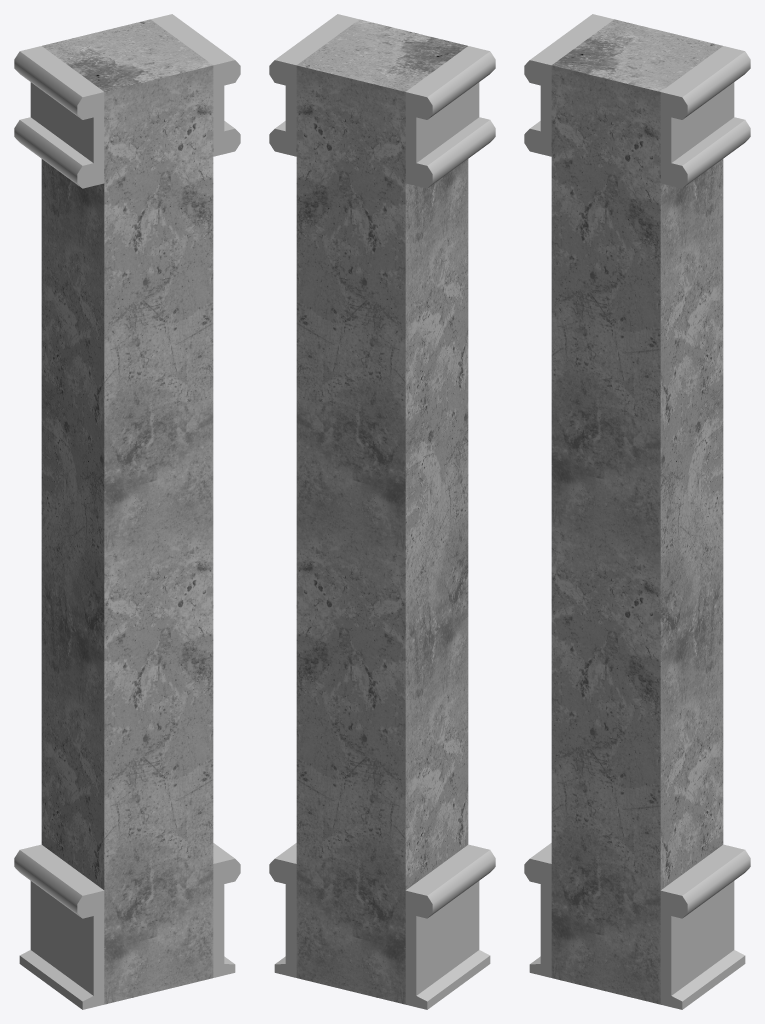
The model's file is SM_Wallkit_Proc_01c.fbx.
3 renders of one model, left to right at view 1: azimuth 30°, elevation 25°; view 2: azimuth 150°, elevation 25°; view 3: azimuth 330°, elevation 25°, orthographic.
Parts seen in each view (by area): view 1: SM_Wallkit_Proc_01c_LOD0; view 2: SM_Wallkit_Proc_01c_LOD0; view 3: SM_Wallkit_Proc_01c_LOD0.
Part boxes in pixels (x1=…): SM_Wallkit_Proc_01c_LOD0: x1=14, y1=14, x2=240, y2=1009; SM_Wallkit_Proc_01c_LOD0: x1=269, y1=14, x2=495, y2=1009; SM_Wallkit_Proc_01c_LOD0: x1=524, y1=14, x2=750, y2=1009.
Size of the model in its own units: 150 by 100 by 800.
